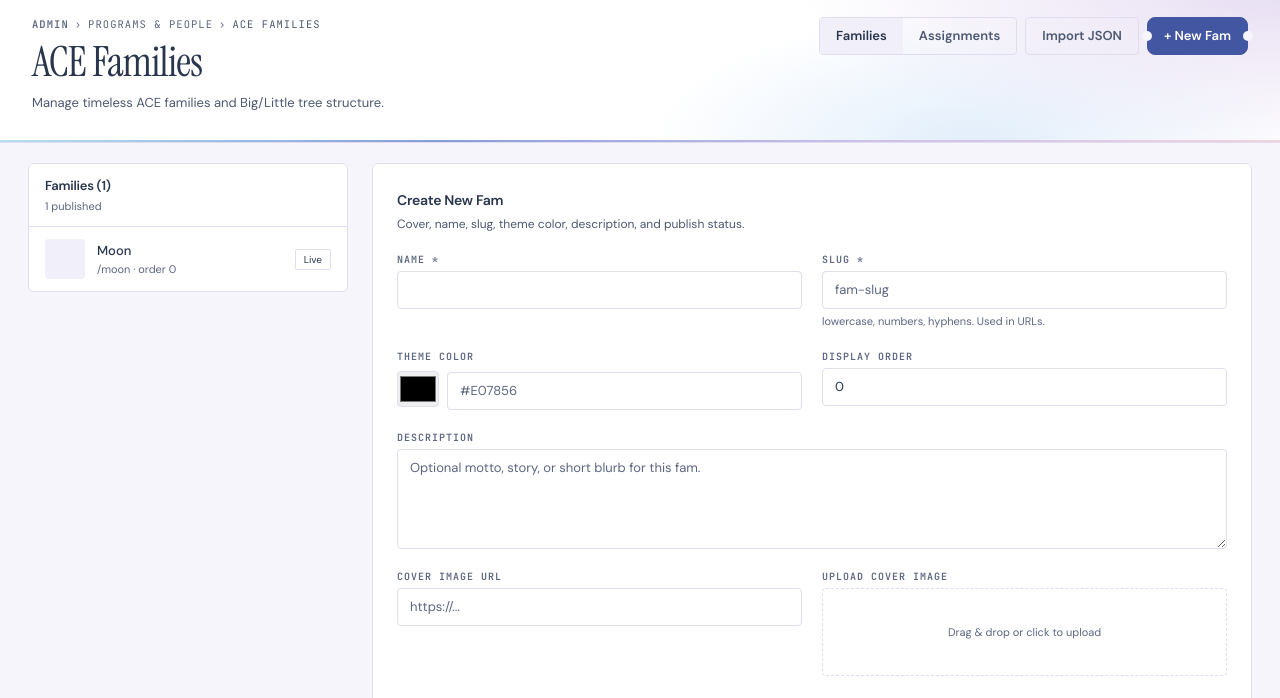
Test: filters, history, and unsaved changes › keeps Save disabled until the fam form changes, then shows Unsaved changes
Click the button "Moon /moon · order 0 Live" at (65,259), box [29, 227, 347, 291]
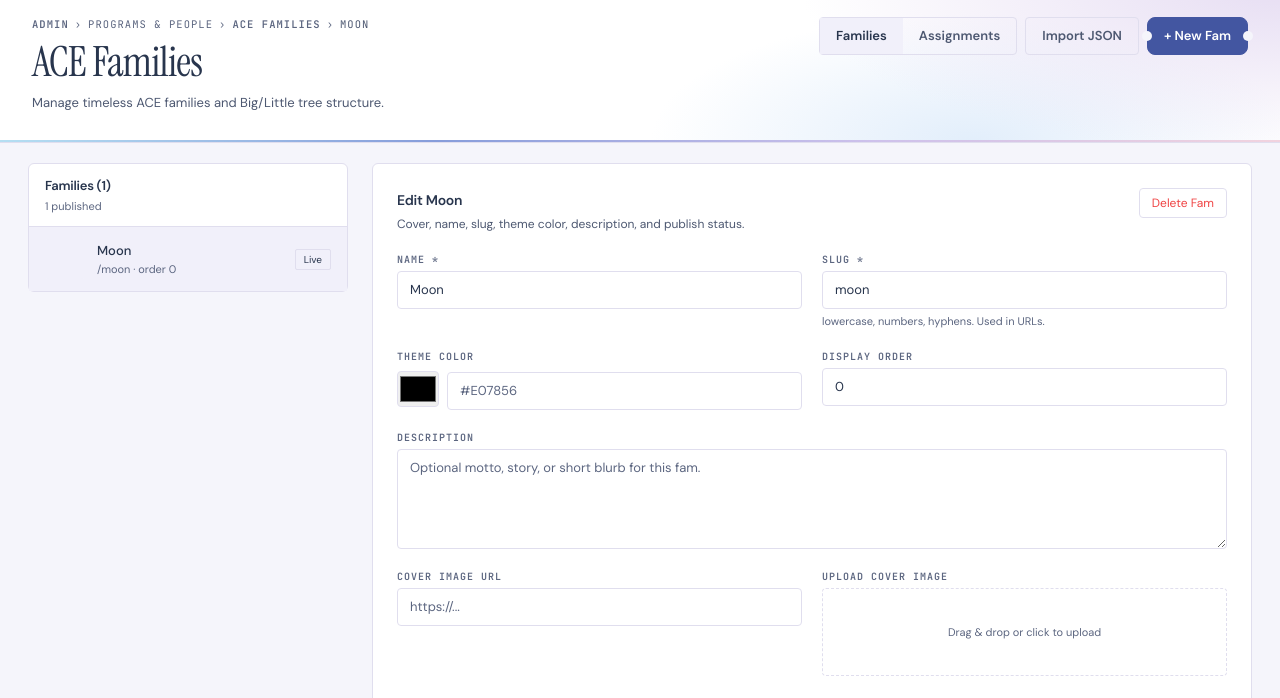
Replace the text in the 1st field showing "Moon" with "Moon Fam" at (600,290), box [397, 270, 802, 308]
(page scrolled)
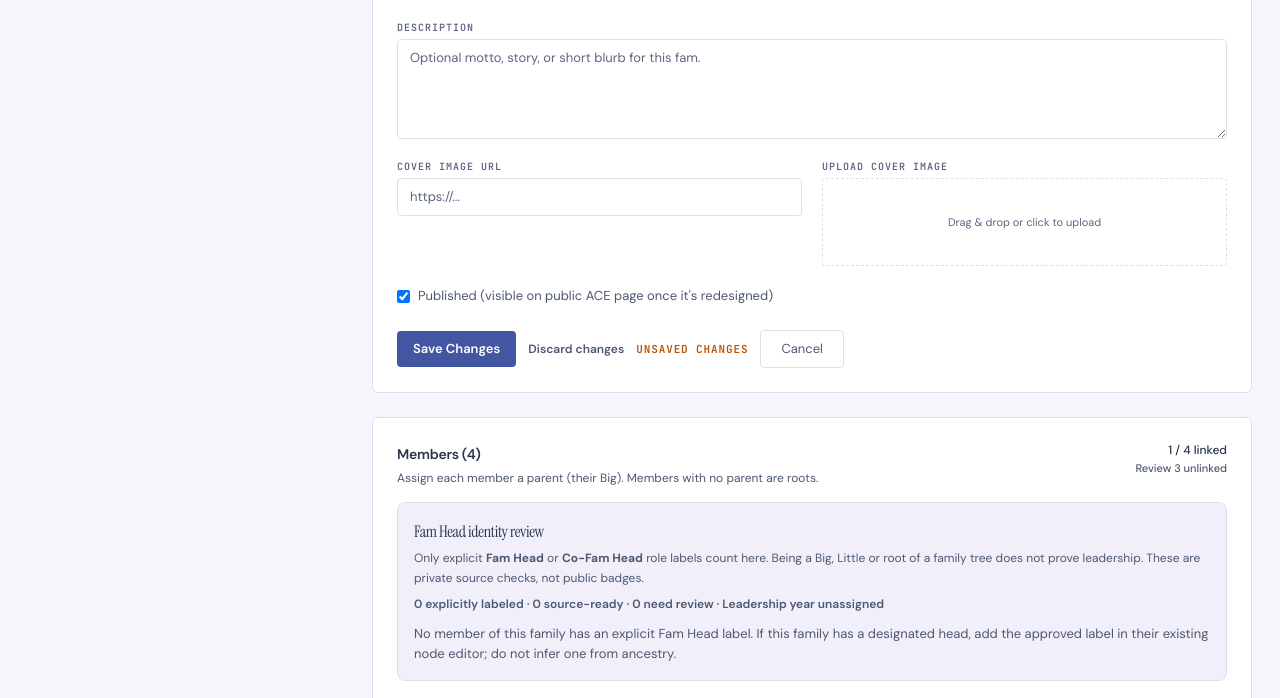
Expected: the button "Save Changes" is enabled, [397, 331, 516, 367]
Expected: the text "Unsaved changes" is shown, [636, 341, 748, 357]
